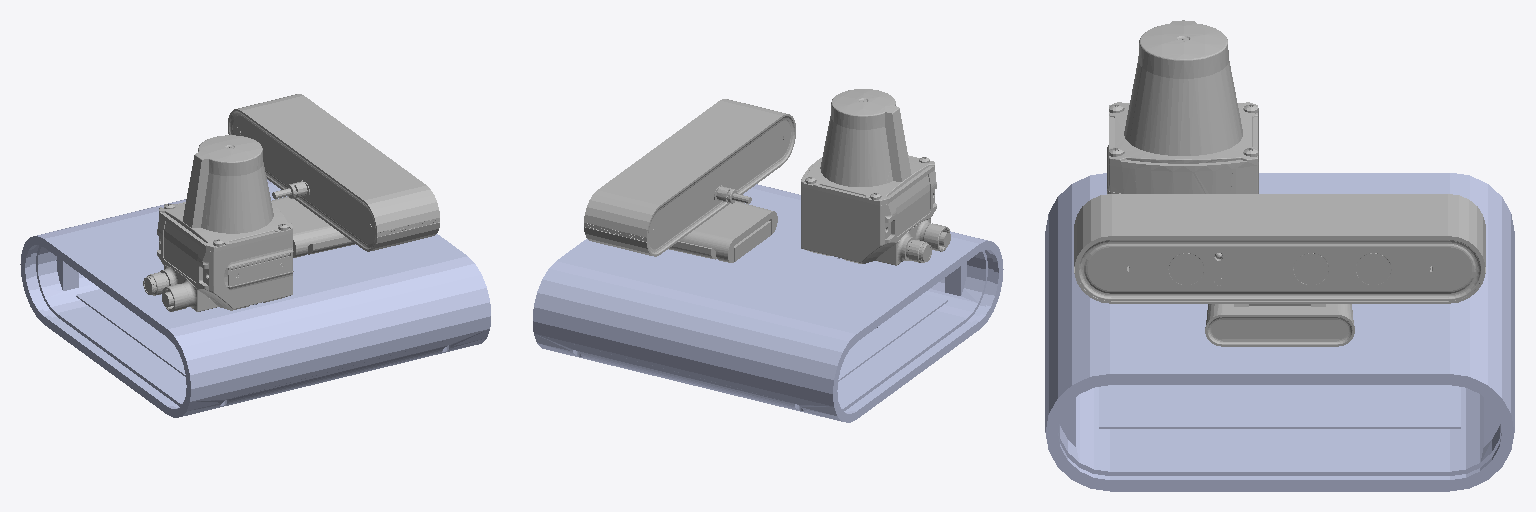
The robot description file, URDF, robot "whisker_project":
<?xml version="1.0" encoding="utf-8"?>
<!-- This URDF was automatically created by SolidWorks to URDF Exporter! Originally created by [author] ([email redacted]) 
     Commit Version: 1.6.0-4-g7f85cfe  Build Version: 1.6.7995.38578
     For more information, please see http://wiki.ros.org/sw_urdf_exporter -->
<robot
  name="whisker_project">
<link name="world_link"/>

  <joint name="world_to_base" type="fixed">
    <parent link="world_link"/>
    <child link="base_link"/>
    <origin xyz="0 0 0" rpy="0 0 0"/>
  </joint>
  <link
    name="base_link">
    <inertial>
      <origin
        xyz="-0.00384554710817432 0.00858554498823808 -0.025754005892457"
        rpy="0 0 0" />
      <mass
        value="0.397638285996351" />
      <inertia
        ixx="0.00140449326145997"
        ixy="4.57975126751608E-08"
        ixz="4.4867995863752E-09"
        iyy="0.00119308023227632"
        iyz="-3.26775553031169E-09"
        izz="0.00256630274510629" />
    </inertial>
    <visual>
      <origin
        xyz="0 0 0"
        rpy="0 0 0" />
      <geometry>
        <mesh
          filename="package://whisker_project/meshes/base_link.STL" />
      </geometry>
      <material
        name="">
        <color
          rgba="0.792156862745098 0.819607843137255 0.933333333333333 1" />
      </material>
    </visual>
    <collision>
      <origin
        xyz="0 0 0"
        rpy="0 0 0" />
      <geometry>
        <mesh
          filename="package://whisker_project/meshes/base_link.STL" />
      </geometry>
    </collision>
  </link>
  <link
    name="lidar_Link">
    <inertial>
      <origin
        xyz="-0.00207366821127795 -3.13393386247723E-05 -0.0272592943990869"
        rpy="0 0 0" />
      <mass
        value="0.208750664901465" />
      <inertia
        ixx="0.000140221415081061"
        ixy="8.46088329910782E-09"
        ixz="2.51140585180267E-06"
        iyy="0.00013732443422994"
        iyz="-4.57939634057416E-08"
        izz="9.3125548369429E-05" />
    </inertial>
    <visual>
      <origin
        xyz="0 0 0"
        rpy="0 0 0" />
      <geometry>
        <mesh
          filename="package://whisker_project/meshes/lidar_Link.STL" />
      </geometry>
      <material
        name="">
        <color
          rgba="0.752941176470588 0.752941176470588 0.752941176470588 1" />
      </material>
    </visual>
    <collision>
      <origin
        xyz="0 0 0"
        rpy="0 0 0" />
      <geometry>
        <mesh
          filename="package://whisker_project/meshes/lidar_Link.STL" />
      </geometry>
    </collision>
  </link>
  <joint
    name="lidar_Joint"
    type="fixed">
    <origin
      xyz="-0.0423409050707997 -0.0300177645431443 0.0603652915318988"
      rpy="0 0 0" />
    <parent
      link="base_link" />
    <child
      link="lidar_Link" />
    <axis
      xyz="0 0 0" />
  </joint>
  <link
    name="depth_Link">
    <inertial>
      <origin
        xyz="-0.0160046255937588 -0.0375030294495114 -0.004700507951464"
        rpy="0 0 0" />
      <mass
        value="0.220446942054854" />
      <inertia
        ixx="0.00040610193932044"
        ixy="4.49920874895974E-08"
        ixz="1.58793349784756E-07"
        iyy="4.67237503386647E-05"
        iyz="2.02435090041219E-09"
        izz="0.000425228489510417" />
    </inertial>
    <visual>
      <origin
        xyz="0 0 0"
        rpy="0 0 0" />
      <geometry>
        <mesh
          filename="package://whisker_project/meshes/depth_Link.STL" />
      </geometry>
      <material
        name="">
        <color
          rgba="0.752941176470588 0.752941176470588 0.752941176470588 1" />
      </material>
    </visual>
    <collision>
      <origin
        xyz="0 0 0"
        rpy="0 0 0" />
      <geometry>
        <mesh
          filename="package://whisker_project/meshes/depth_Link.STL" />
      </geometry>
    </collision>
  </link>
  <joint
    name="depth_Joint"
    type="fixed">
    <origin
      xyz="0.0600690949305007 0.0460822729755588 0.0341258110332986"
      rpy="0 0 0" />
    <parent
      link="base_link" />
    <child
      link="depth_Link" />
    <axis
      xyz="0 0 0" />
  </joint>
  <link
    name="imu_Link">
    <inertial>
      <origin
        xyz="-0.032724636371426 -0.0362280499312092 -0.000500000287073307"
        rpy="0 0 0" />
      <mass
        value="0.0189445441258604" />
      <inertia
        ixx="3.3090442849036E-05"
        ixy="-1.01036746158659E-08"
        ixz="-1.061881671937E-13"
        iyy="2.70989771482075E-05"
        iyz="1.14356493497984E-13"
        izz="6.01862625767277E-05" />
    </inertial>
    <visual>
      <origin
        xyz="0 0 0"
        rpy="0 0 0" />
      <geometry>
        <mesh
          filename="package://whisker_project/meshes/imu_Link.STL" />
      </geometry>
      <material
        name="">
        <color
          rgba="0.792156862745098 0.819607843137255 0.933333333333333 1" />
      </material>
    </visual>
    <collision>
      <origin
        xyz="0 0 0"
        rpy="0 0 0" />
      <geometry>
        <mesh
          filename="package://whisker_project/meshes/imu_Link.STL" />
      </geometry>
    </collision>
  </link>
  <joint
    name="imu_Joint"
    type="fixed">
    <origin
      xyz="0.0215090949305007 0.0447830082299264 -0.0407741889667037"
      rpy="0 0 0" />
    <parent
      link="base_link" />
    <child
      link="imu_Link" />
    <axis
      xyz="0 0 0" />
  </joint>
</robot>

--- Render facts (derived) ---
Views: 3 orthographic renders of the robot side by side, from view 1: azimuth 30°, elevation 25°; view 2: azimuth 150°, elevation 25°; view 3: azimuth 270°, elevation 25°.
Model whisker_project with 5 links and 4 joints (4 fixed), rooted at world_link, posed every joint at zero.
Links seen in each view (by area): view 1: base_link, depth_Link, lidar_Link, imu_Link; view 2: base_link, depth_Link, lidar_Link, imu_Link; view 3: base_link, depth_Link, lidar_Link, imu_Link.
Link boxes in pixels (bbox=[...]): base_link: bbox=[20, 179, 490, 417]; depth_Link: bbox=[228, 94, 439, 257]; lidar_Link: bbox=[143, 135, 293, 311]; imu_Link: bbox=[76, 289, 185, 376]; base_link: bbox=[533, 184, 1003, 422]; depth_Link: bbox=[584, 99, 795, 262]; lidar_Link: bbox=[801, 89, 950, 265]; imu_Link: bbox=[838, 294, 947, 381]; base_link: bbox=[1045, 173, 1514, 491]; depth_Link: bbox=[1074, 194, 1485, 346]; lidar_Link: bbox=[1107, 20, 1258, 193]; imu_Link: bbox=[1099, 385, 1460, 428].
Size in the robot's own frame: 0.191 by 0.188 by 0.1378 metres.
4 mesh visuals loaded from 4 distinct referenced files (4 binary STL).